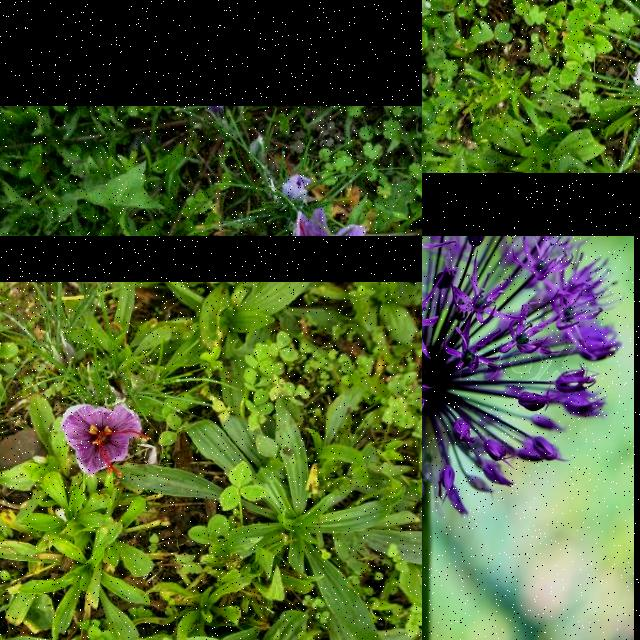flower: (60, 404, 150, 478), (282, 175, 310, 201)
